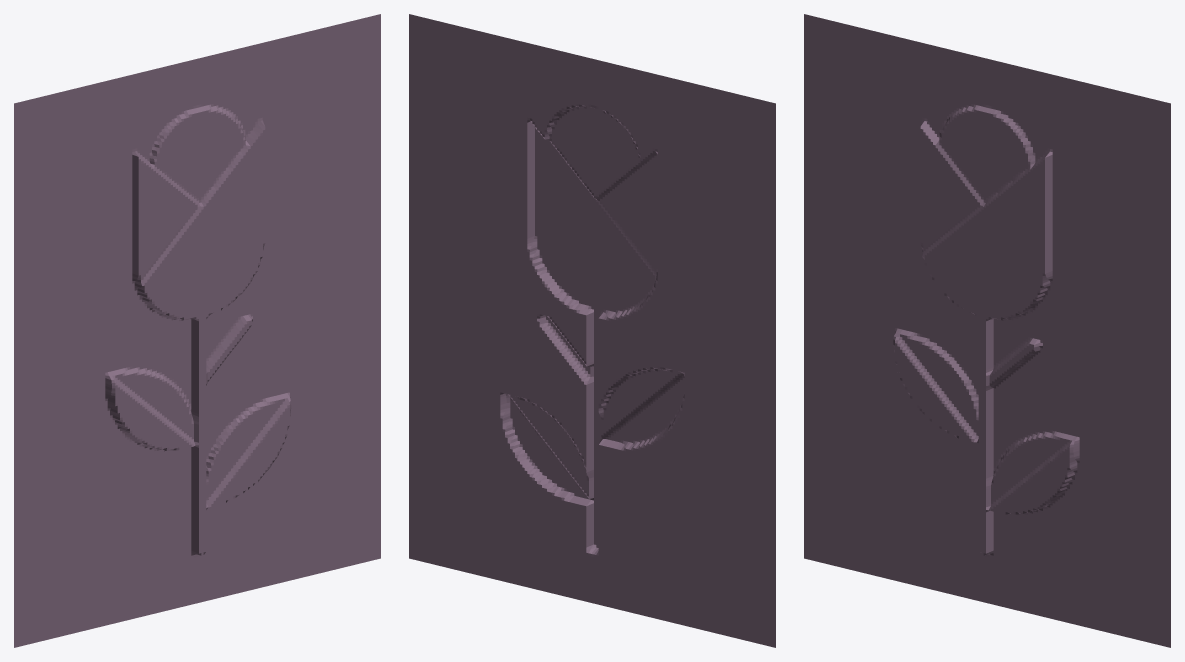
Rendered from tulip.glb.
3 renders of one model, left to right at view 1: azimuth 30°, elevation 25°; view 2: azimuth 150°, elevation 25°; view 3: azimuth 330°, elevation 25°, orthographic.
Parts seen in each view (by area): view 1: Plane.043; view 2: Plane.043; view 3: Plane.043.
Boxes of the visible parts, x1,y1,x2,y2 form: Plane.043: (14,14,380,647); Plane.043: (409,14,775,647); Plane.043: (804,14,1170,647).
Bounding box in the file's own units: 4.1 × 5.82 × 0.0987.
